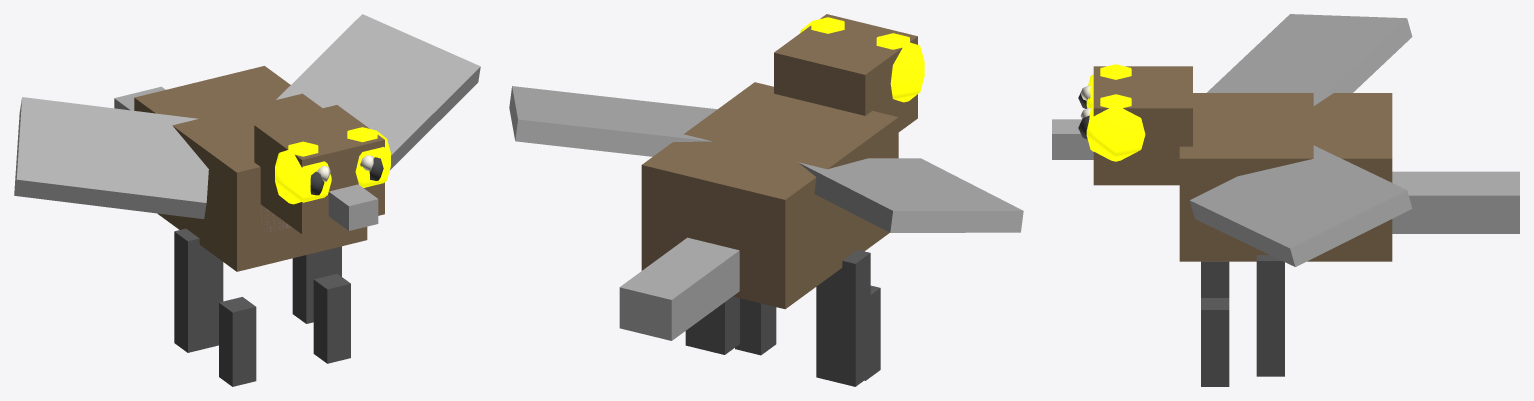
The model's file is PygmyGryphonB.glb.
3 views of the same model, side by side, from view 1: azimuth 30°, elevation 25°; view 2: azimuth 150°, elevation 25°; view 3: azimuth 270°, elevation 25° (orthographic). The views are drawn at different scales.
Visible parts, largest first — view 1: PygmyGryphonBody; view 2: PygmyGryphonBody; view 3: PygmyGryphonBody.
Part boxes in pixels (bbox=[...]): PygmyGryphonBody: bbox=[14, 14, 480, 386]; PygmyGryphonBody: bbox=[509, 14, 1023, 386]; PygmyGryphonBody: bbox=[1052, 14, 1519, 386].
Size of the model in its own units: 0.7362 by 0.4022 by 0.6204.
